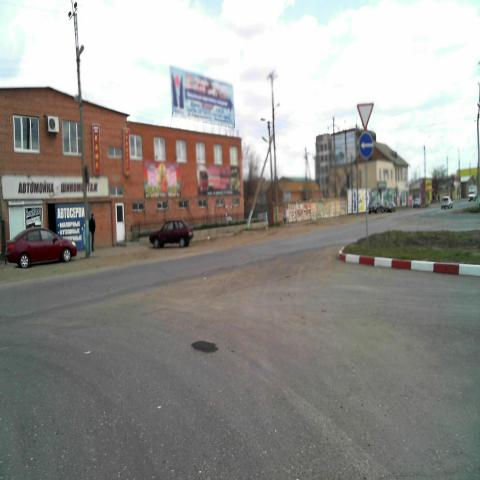4_1_2_2: (358, 130, 374, 160)
